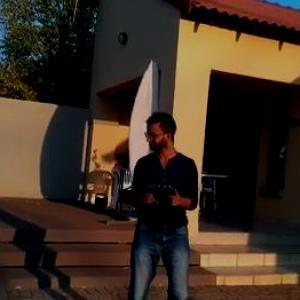follow: (123, 106, 202, 299)
